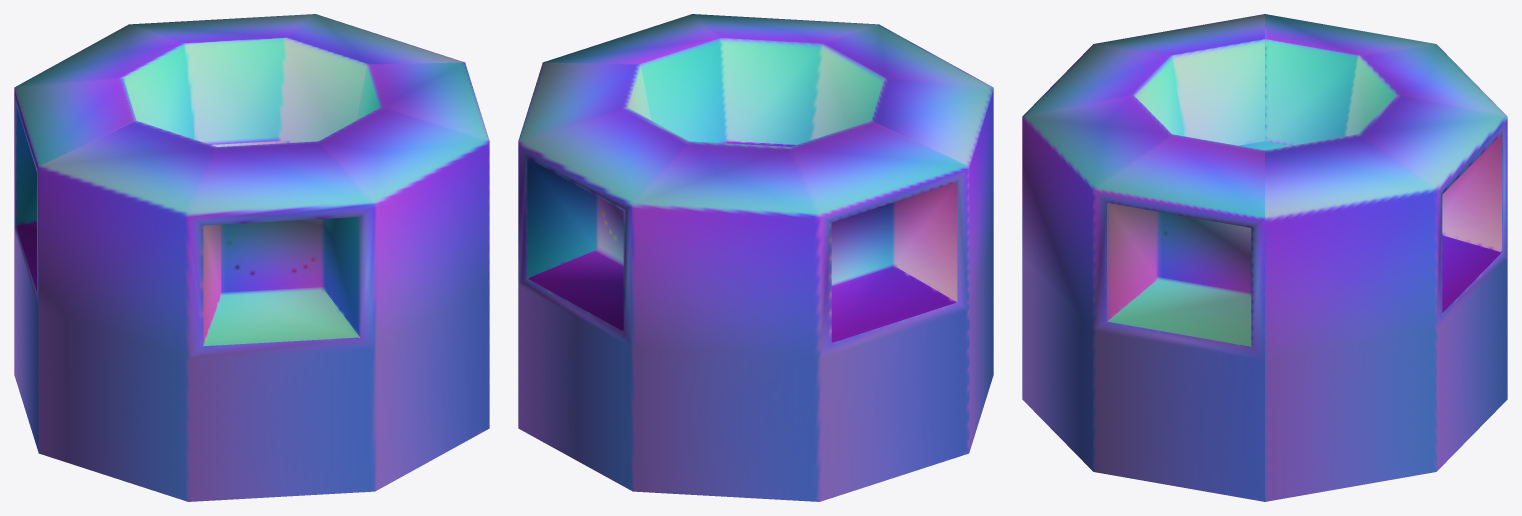
File: OrionCuerpo.obj
The picture shows the model from 3 angles, left to right: view 1: azimuth 30°, elevation 25°; view 2: azimuth 150°, elevation 25°; view 3: azimuth 270°, elevation 25°; orthographic projection.
Parts seen in each view (by area): view 1: Sphere.021_Sphere.016; view 2: Sphere.021_Sphere.016; view 3: Sphere.021_Sphere.016.
Boxes of the visible parts, <box> form: Sphere.021_Sphere.016: <box>14,14,489,501</box>; Sphere.021_Sphere.016: <box>518,14,993,501</box>; Sphere.021_Sphere.016: <box>1022,14,1507,501</box>.
Size of the model in its own units: 3.53 by 2.44 by 3.53.
